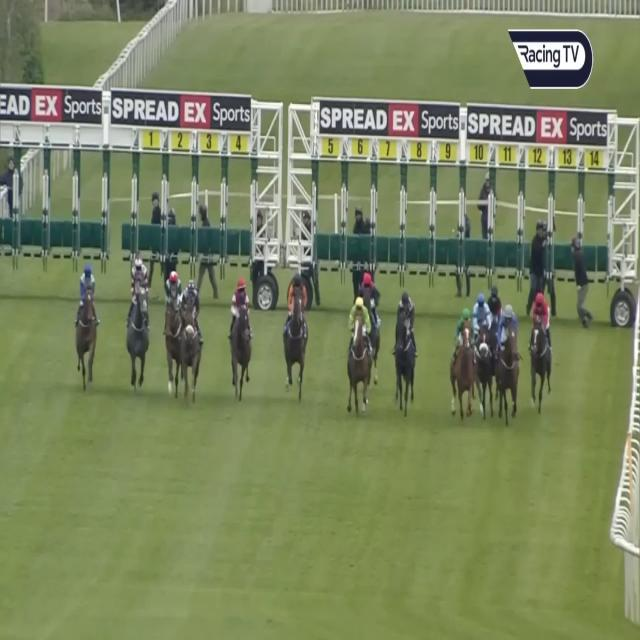horses-racing: (125, 253, 153, 389), (225, 275, 252, 399), (74, 263, 102, 376), (284, 272, 309, 396), (393, 288, 419, 400), (347, 296, 374, 401), (496, 306, 519, 424), (530, 287, 552, 410), (181, 281, 204, 397), (160, 268, 184, 379), (449, 309, 474, 413), (360, 266, 384, 363), (472, 294, 492, 402), (488, 284, 503, 340)
